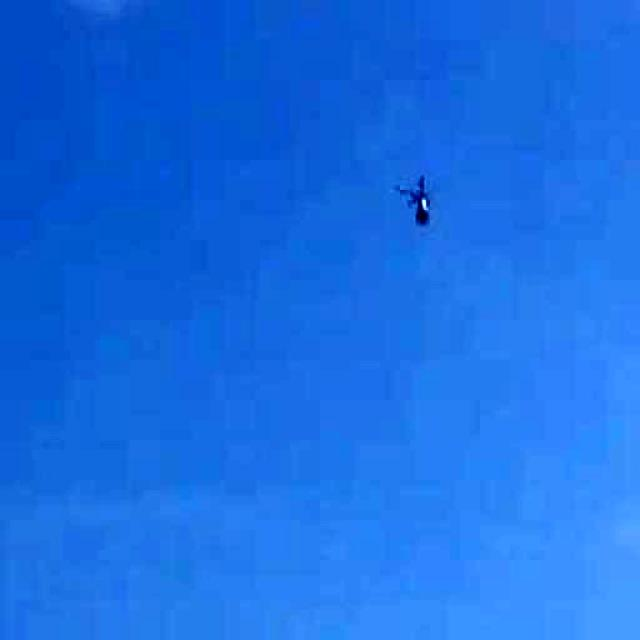drone: (381, 160, 462, 244)
